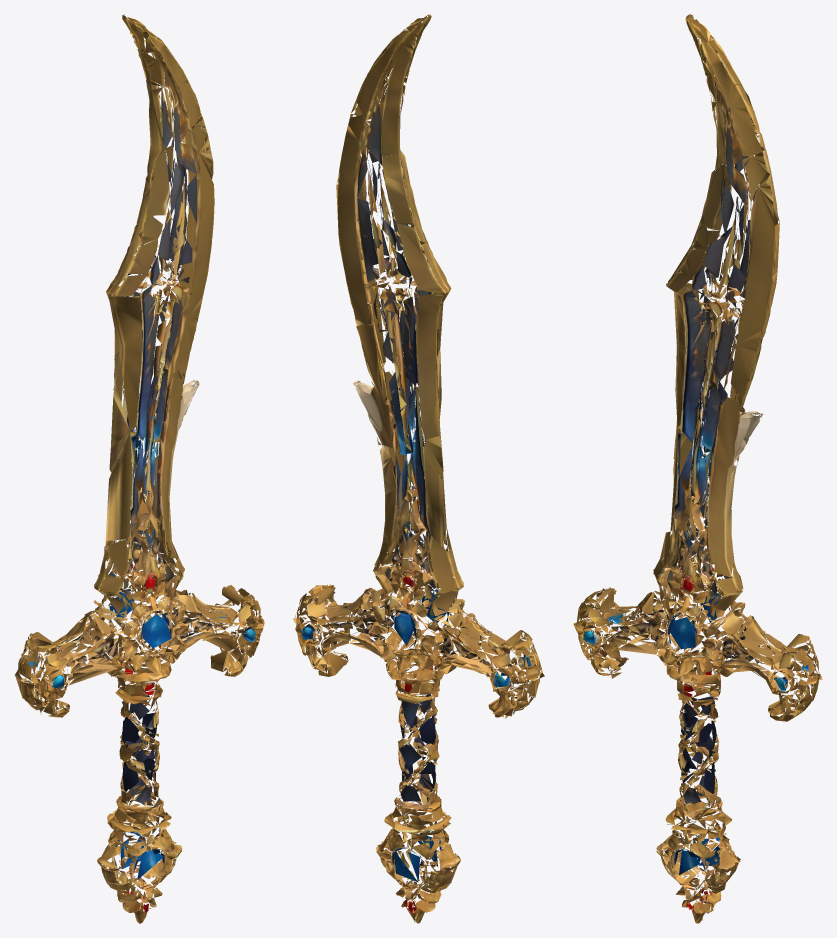
File: char_sword.glb
The picture shows the model from 3 angles, left to right: view 1: azimuth 30°, elevation 25°; view 2: azimuth 150°, elevation 25°; view 3: azimuth 330°, elevation 25°; orthographic projection.
Visible parts, largest first — view 1: model; view 2: model; view 3: model.
Part boxes in pixels (left/top/right/bottom): model: left=15, top=14, right=264, bottom=923; model: left=293, top=14, right=544, bottom=923; model: left=573, top=14, right=822, bottom=923.
Size of the model in its own units: 0.3109 by 1.1 by 0.0846.
Materials: 1 (1 with a texture image).
